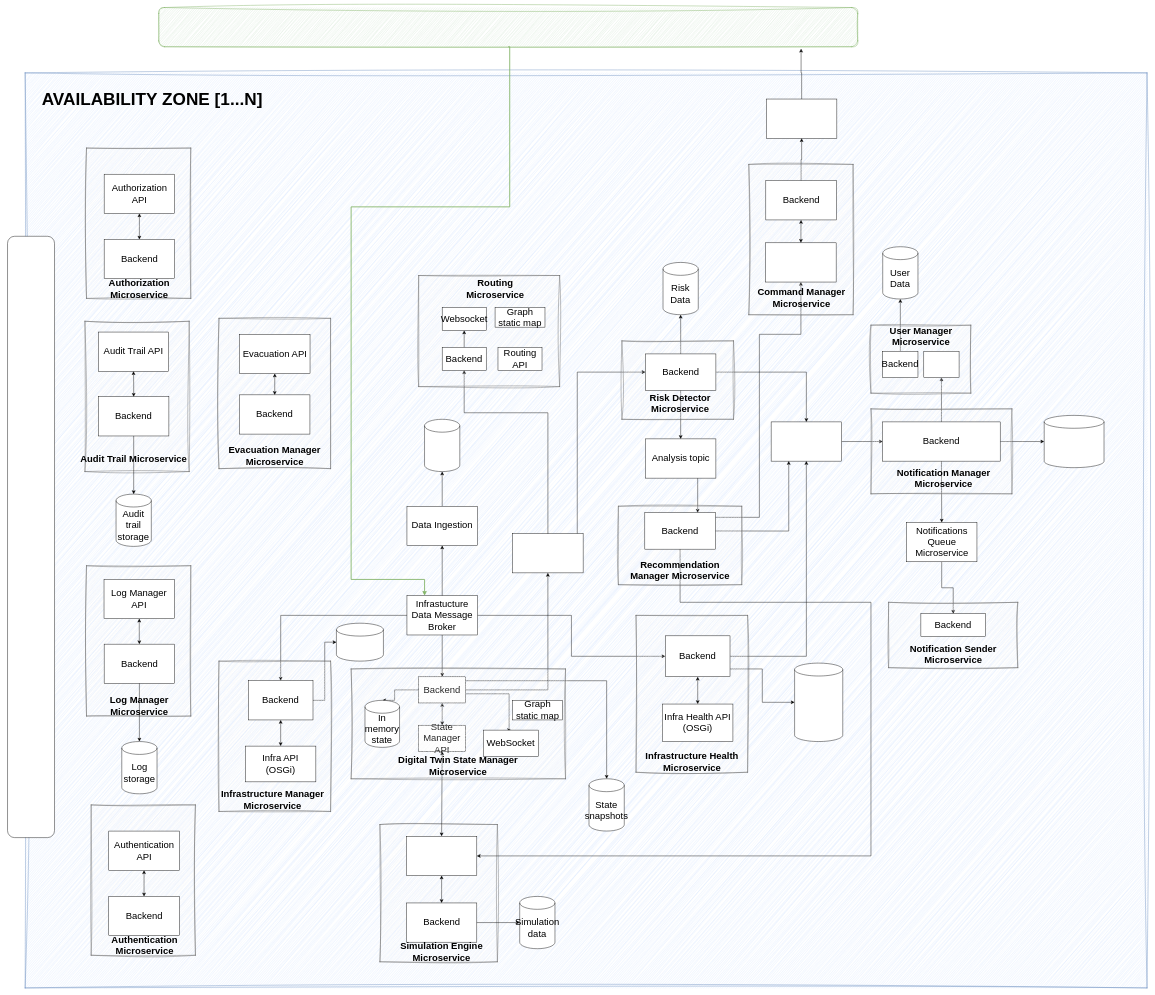
Image size: 1155x995. Some labels were removed from this diagram. Here are the shapes that lost their labels. From the top down, the centre of each, then its label:
At (508,27): "INFRASTRUCTURE".
At (801,118): "Command Broker".
At (800,262): "Command API".
At (941,364): "User API".
At (442,445): "Timeseries DB".
At (806,441): "Notifications Topic".
At (1074,441): "Notifications".
At (31,537): "API GATEWAY".
At (547,553): "DT State Topic".
At (359,642): "Infrastructure Data".
At (818,702): "Infrastructure Health Data".
At (441,856): "Simulation API".
